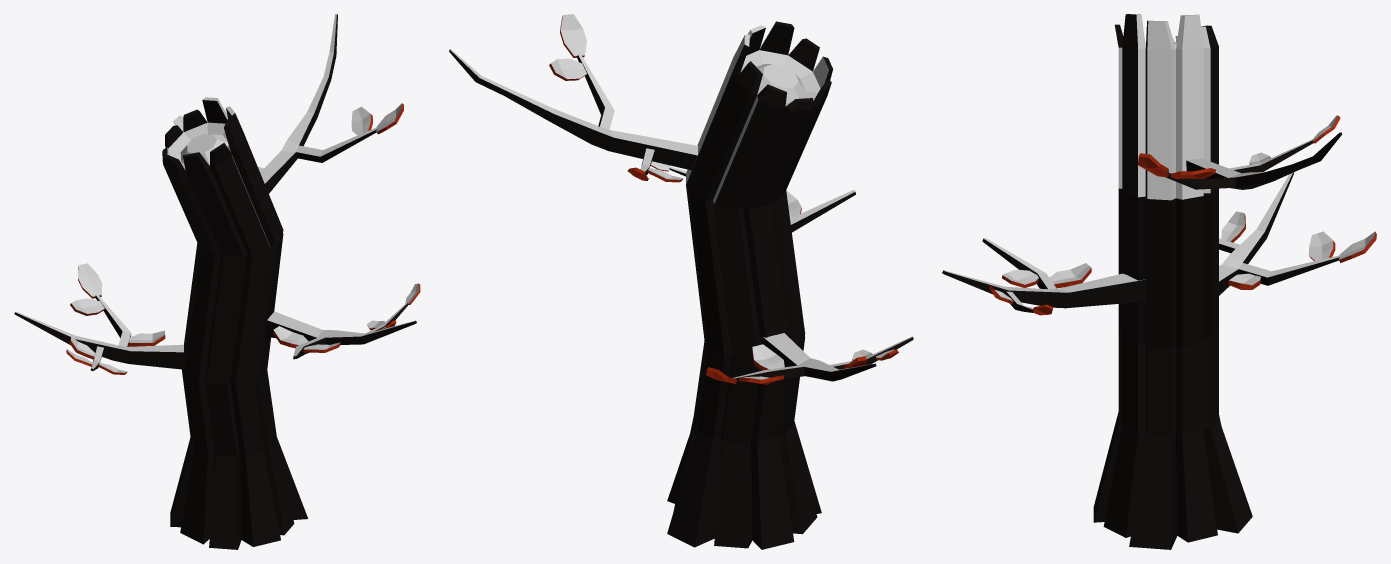
Rendered from Broken_Tree_Winter.obj.
3 renders of one model, left to right at view 1: azimuth 30°, elevation 25°; view 2: azimuth 150°, elevation 25°; view 3: azimuth 270°, elevation 25°, orthographic. The views are drawn at different scales.
Parts seen in each view (by area): view 1: Broken_Tree_Winter_Cylinder.031; view 2: Broken_Tree_Winter_Cylinder.031; view 3: Broken_Tree_Winter_Cylinder.031.
Part boxes in pixels (<box>): Broken_Tree_Winter_Cylinder.031: <box>14,14,420,549</box>; Broken_Tree_Winter_Cylinder.031: <box>449,14,913,549</box>; Broken_Tree_Winter_Cylinder.031: <box>942,14,1376,549</box>.
Size of the model in its own units: 2.92 by 3.41 by 2.73.
